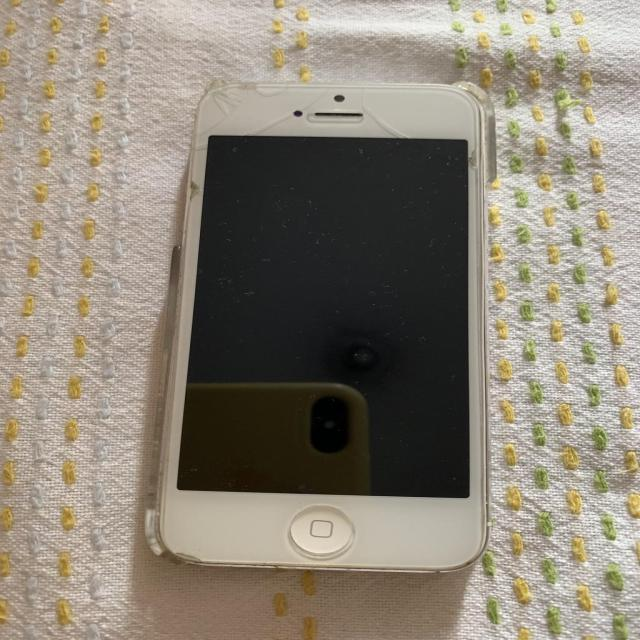Phone: (128, 76, 512, 588)
